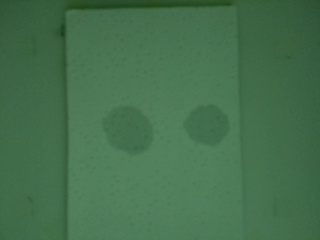Water_detected: (104, 115, 139, 146), (198, 115, 222, 142)
